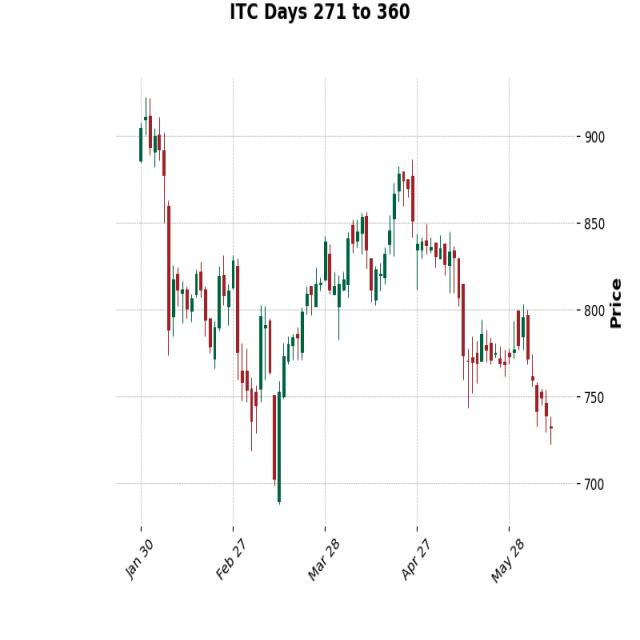Symmetric Triangle: (134, 88, 400, 498)
